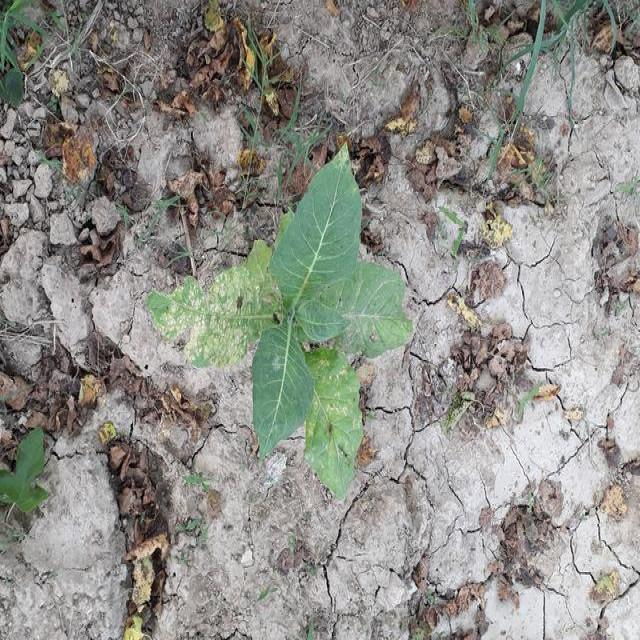crop: (157, 155, 403, 496)
